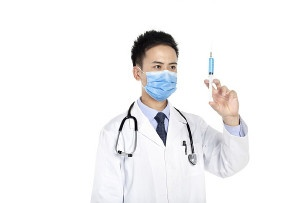Mask: (141, 58, 181, 98)
